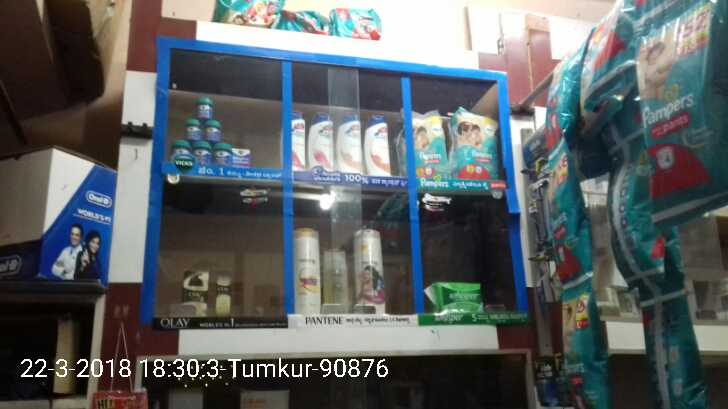vicks: (170, 87, 249, 168)
